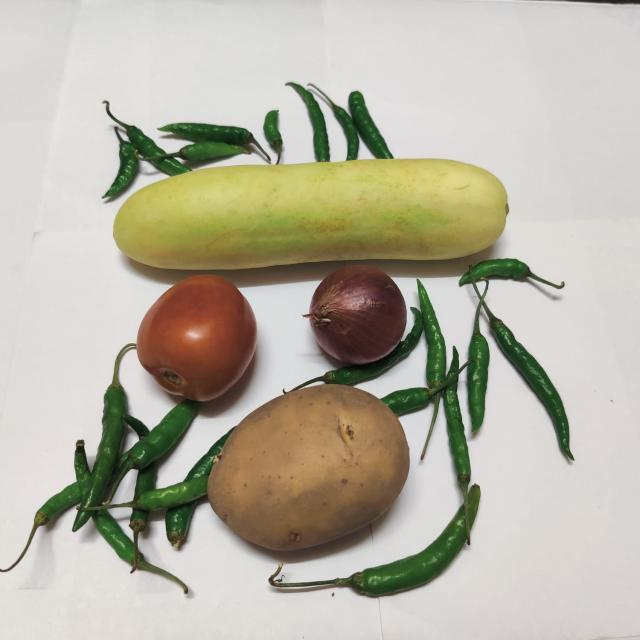Organik: (99, 155, 534, 268), (414, 278, 595, 488), (204, 383, 409, 553), (4, 399, 195, 580), (92, 87, 402, 182), (134, 272, 266, 406), (305, 261, 412, 368)
